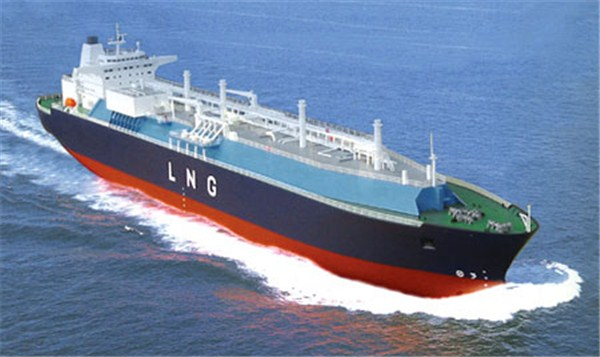Cargoship: (34, 19, 539, 301)
